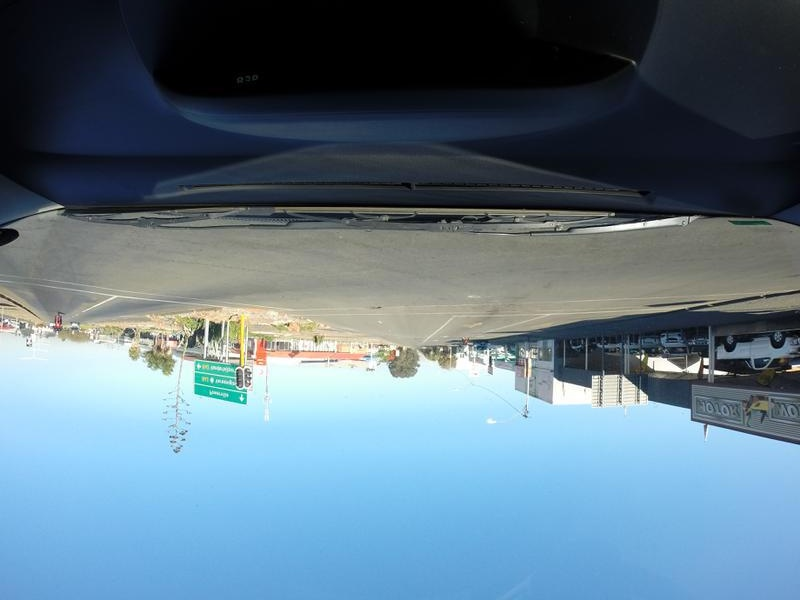pothole: (369, 307, 390, 312)
